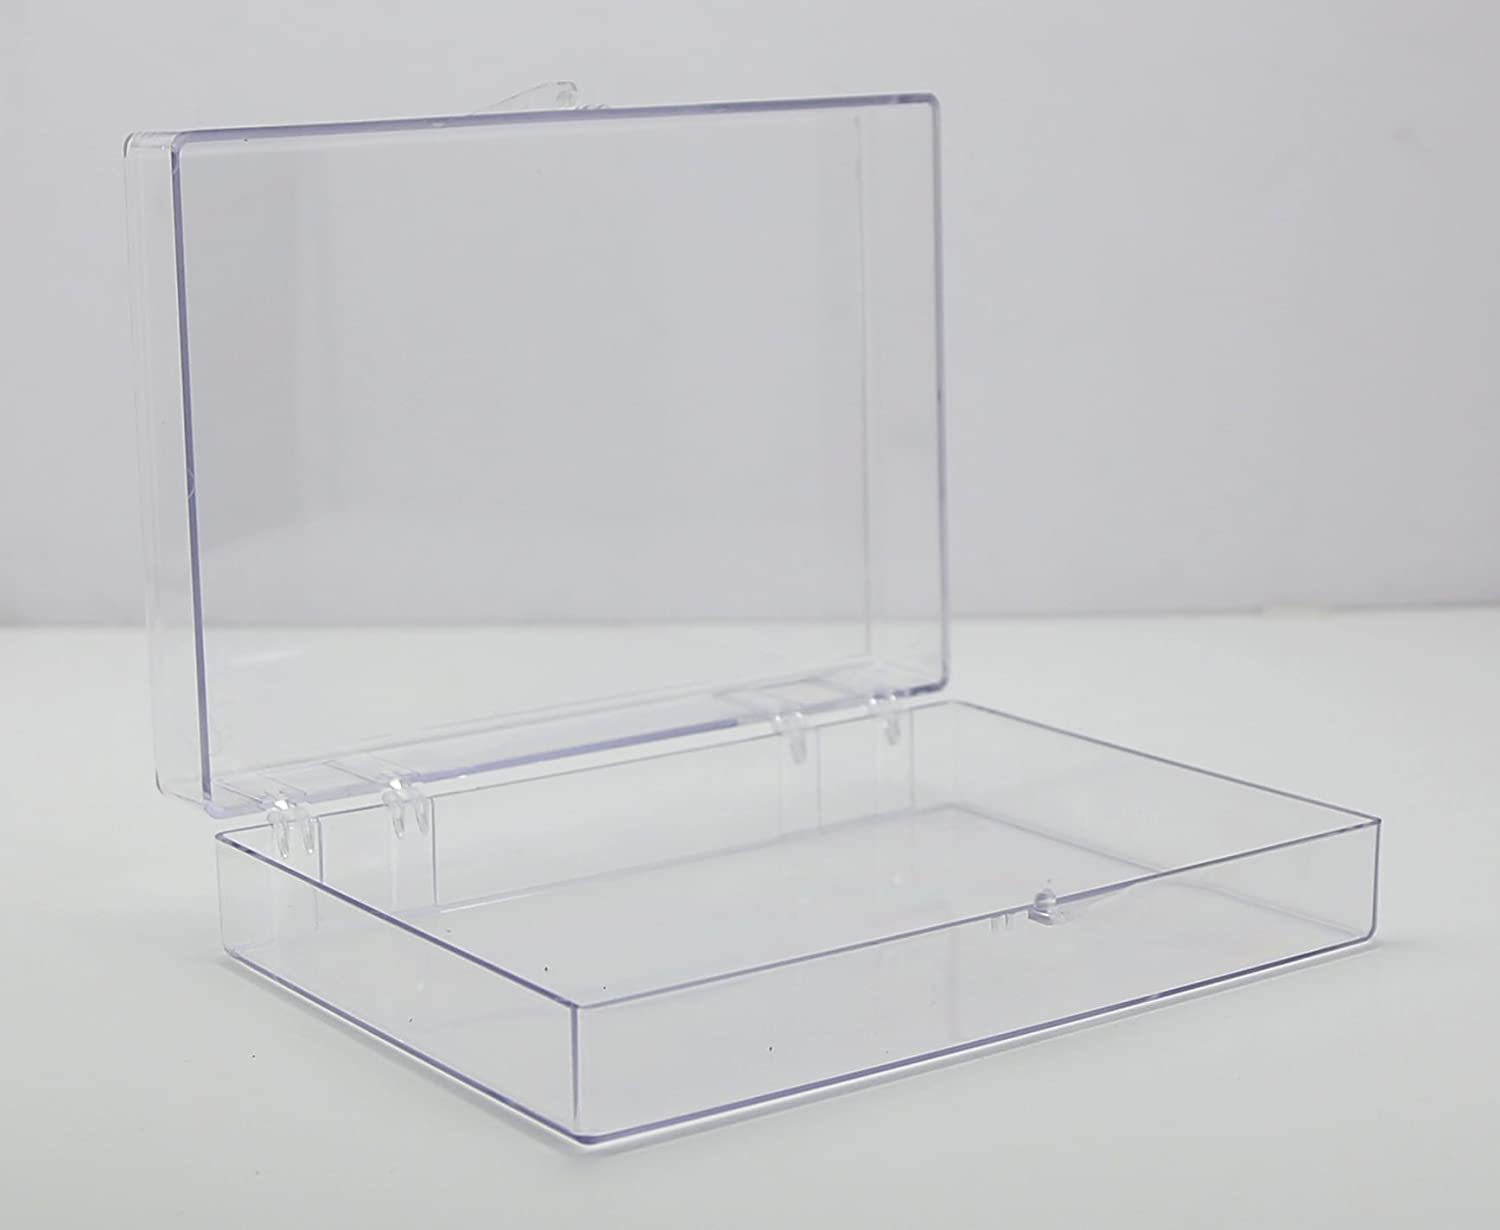PlasticBox: (116, 83, 1397, 1163)
